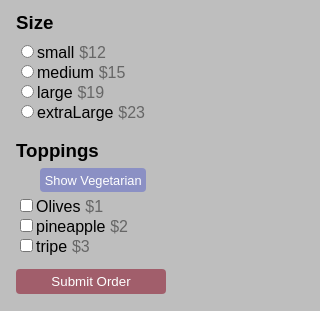
it: Pizza Order App › toppings checkbox inputs › toggle vegetarian toppings when option is selected
Expected: the checkbox labelled "tripe" is shown, [20, 239, 33, 252]
Click the text "Show Vegetarian": point(93, 180) [40, 168, 146, 192]
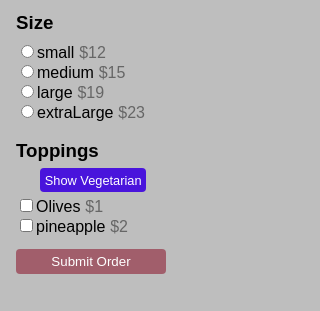
Expected: the label labelled "tripe" is gone
Note: turn toggle back off
Click the text "Show Vegetarian": point(93, 180) [40, 168, 146, 192]
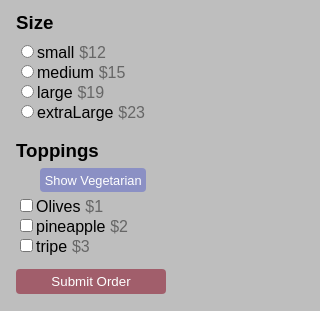
Expected: the checkbox labelled "tripe" is shown, [20, 239, 33, 252]
